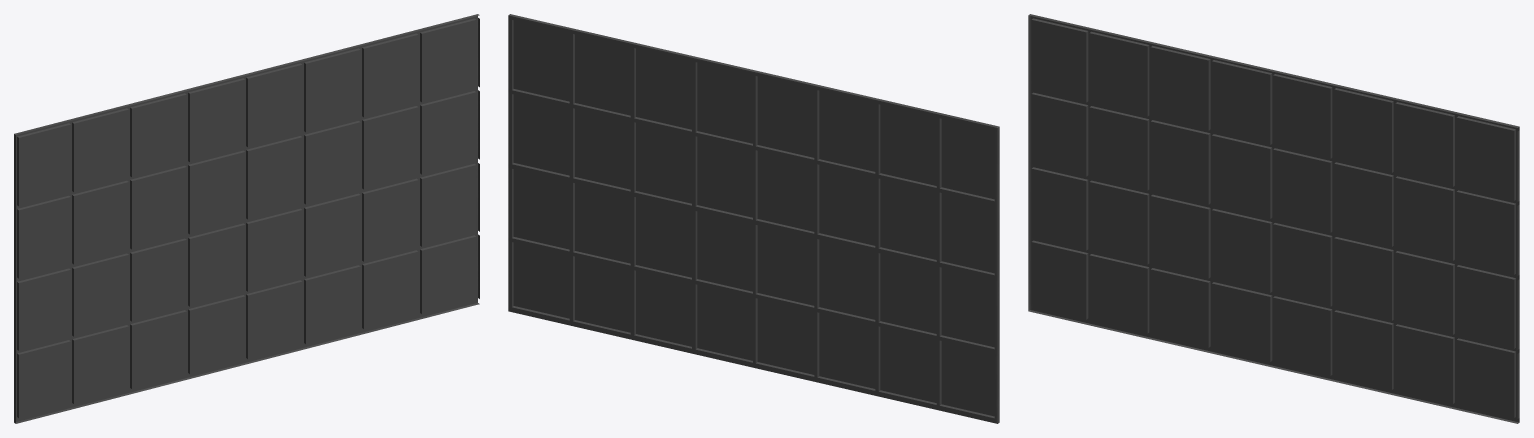
Rendered from PostSlots.fbx.
The picture shows the model from 3 angles, left to right: view 1: azimuth 30°, elevation 25°; view 2: azimuth 150°, elevation 25°; view 3: azimuth 330°, elevation 25°; orthographic projection. The views are drawn at different scales.
Visible parts, largest first — view 1: postSlots2; view 2: postSlots2; view 3: postSlots2.
Part boxes in pixels (<box>): postSlots2: <box>14,14,479,423</box>; postSlots2: <box>508,14,999,423</box>; postSlots2: <box>1028,14,1519,423</box>.
Bounding box in the file's own units: 15.76 × 9.24 × 0.5046.
